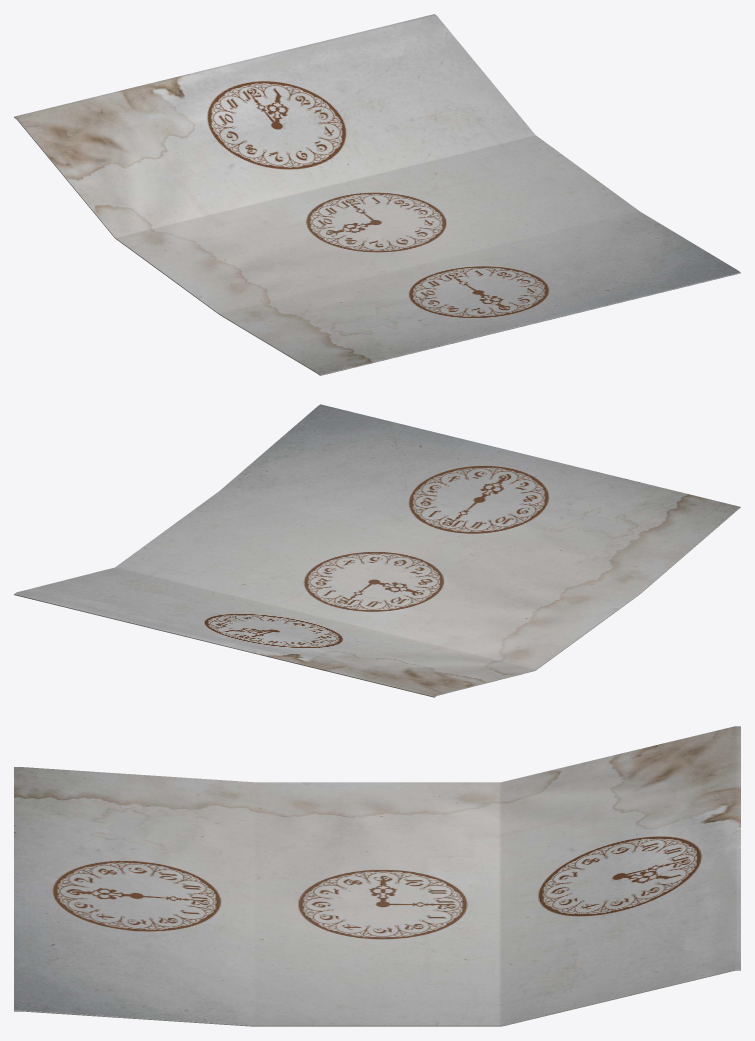
File: Roman Num Code Paper.fbx
3 renders of one model, top to bottom at view 1: azimuth 30°, elevation 25°; view 2: azimuth 150°, elevation 25°; view 3: azimuth 270°, elevation 25°, orthographic. The views are drawn at different scales.
Parts seen in each view (by area): view 1: paper; view 2: paper; view 3: paper.
Boxes of the visible parts, bbox=[...] form: paper: bbox=[14, 14, 740, 375]; paper: bbox=[14, 404, 740, 697]; paper: bbox=[14, 726, 740, 1026].
Bounding box in the file's own units: 9.64 × 1.05 × 12.16.
